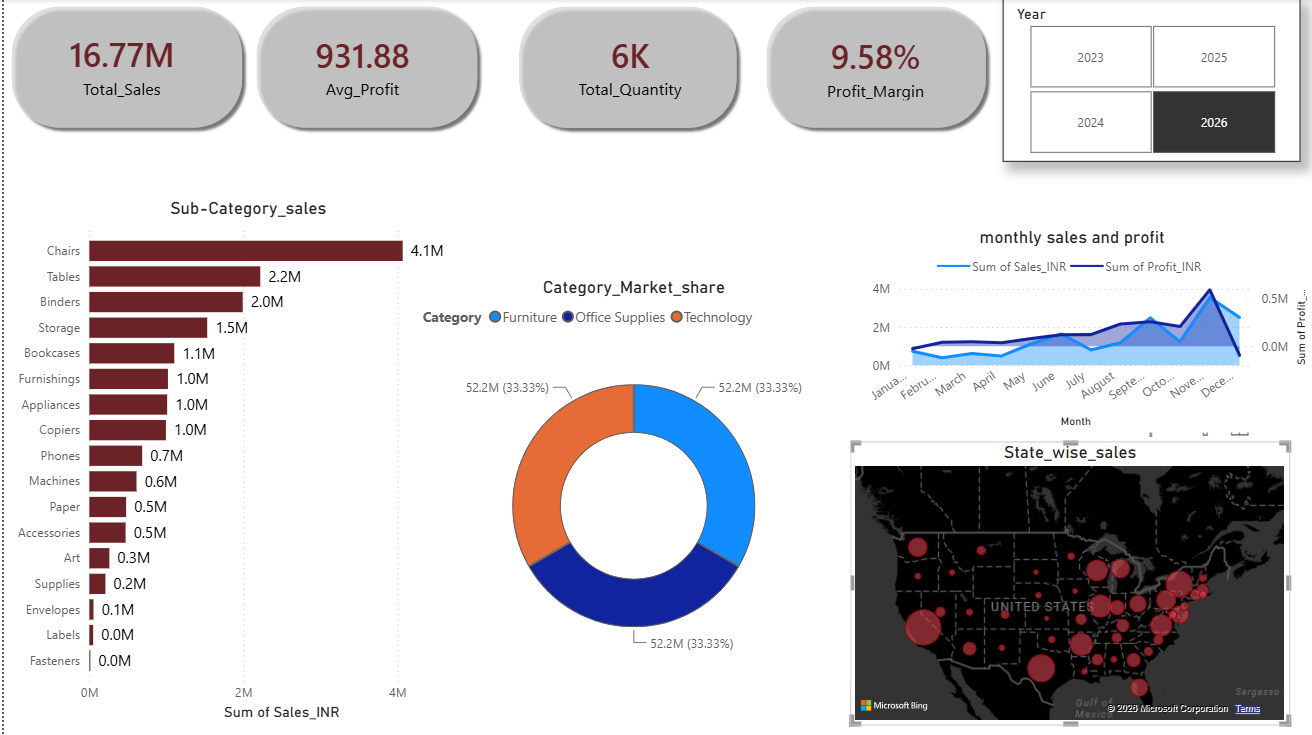

The dashboard page shown, as its layout file describes it:
{"tool":"powerbi","page":{"name":"Page 1","canvas":[1280,720],"ordinal":0},"visuals":[{"type":"shape","box":[0,0,240.1,133.1],"z":0},{"type":"shape","box":[240.1,0,230.5,133.1],"z":1000},{"type":"shape","box":[496.5,0,227.4,133.3],"z":2000},{"type":"shape","box":[738.3,0,229.2,133.1],"z":3000},{"type":"cardVisual","fields":{"Data":["Sum(Orders.Sales_INR)"]},"box":[31.6,16.5,167.4,98.8],"z":4000},{"type":"cardVisual","fields":{"Data":["Orders.Profit_Mrgin"]},"box":[769.2,17.1,167.5,99],"z":5000},{"type":"cardVisual","fields":{"Data":["Sum(Orders.Quantity)"]},"box":[529.5,15.9,166.3,99],"z":6000},{"type":"cardVisual","fields":{"Data":["Avg(Orders.Profit_INR)"]},"box":[272.7,15.9,156.5,99],"z":7000},{"type":"barChart","title":"Sub-Category_sales","fields":{"Category":["Products.Sub-Category"],"Y":["Sum(Orders.Sales_INR)"]},"box":[3.7,194.4,470.8,516],"z":8000},{"type":"map","title":" State_wise_sales","fields":{"Category":["Customers.State"],"Size":["Sum(Orders.Sales_INR)"]},"box":[827.9,432.9,430.4,277.6],"z":8001},{"type":"areaChart","title":"monthly sales and profit","fields":{"Category":["Orders.Order Date.Variation.Date Hierarchy.Month"],"Y":["Sum(Orders.Sales_INR)"],"Y2":["Sum(Orders.Profit_INR)"]},"box":[809.5,222.6,470.8,201.8],"z":8002},{"type":"donutChart","title":" Category_Market_share","fields":{"Category":["Products.Category"],"Y":["Sum(Dublicate.Sales_INR)"]},"box":[404.8,271.5,423.1,399.9],"z":8003},{"type":"slicer","fields":{"Values":["Orders.Order Date.Variation.Date Hierarchy.Year"]},"box":[977,0,291,159],"z":8004}]}

Visuals, with their boxes in screenshot pixels (x1, y1, x2, y2), scaled from the page's 1280x720 canvas onto the 1312x735 screenshot:
shape: detection(0, 0, 246, 136)
shape: detection(246, 0, 482, 136)
shape: detection(509, 0, 742, 136)
shape: detection(757, 0, 992, 136)
cardVisual - Sum(Orders.Sales_INR): detection(32, 17, 204, 118)
cardVisual - Orders.Profit_Mrgin: detection(788, 17, 960, 119)
cardVisual - Sum(Orders.Quantity): detection(543, 16, 713, 117)
cardVisual - Avg(Orders.Profit_INR): detection(280, 16, 440, 117)
"Sub-Category_sales" barChart: detection(4, 198, 486, 725)
" State_wise_sales" map: detection(849, 442, 1290, 725)
"monthly sales and profit" areaChart: detection(830, 227, 1311, 433)
" Category_Market_share" donutChart: detection(415, 277, 849, 685)
slicer - Orders.Order Date.Variation.Date Hierarchy.Year: detection(1001, 0, 1300, 162)
